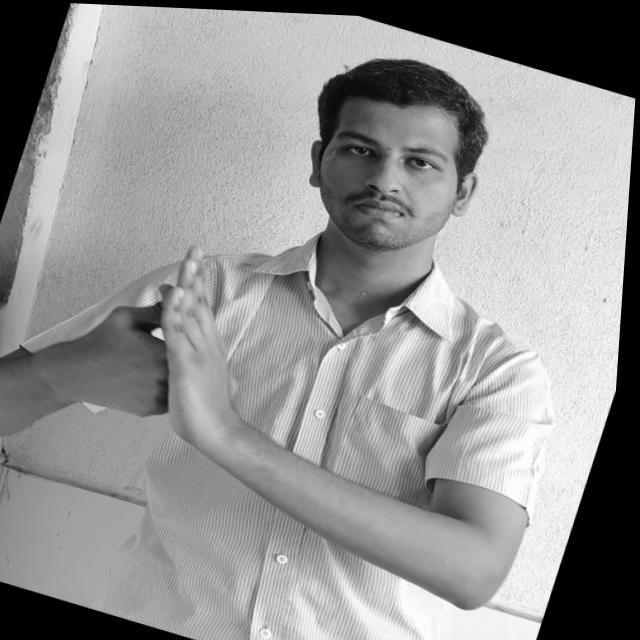Well Done: (65, 220, 282, 456)
